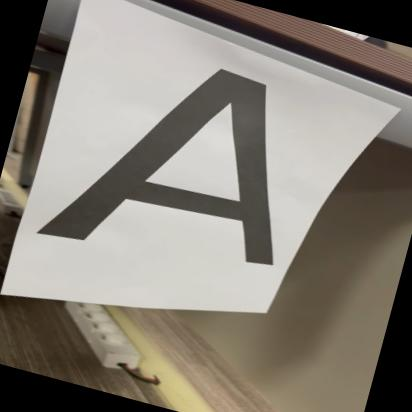seat: (29, 17, 328, 298)
